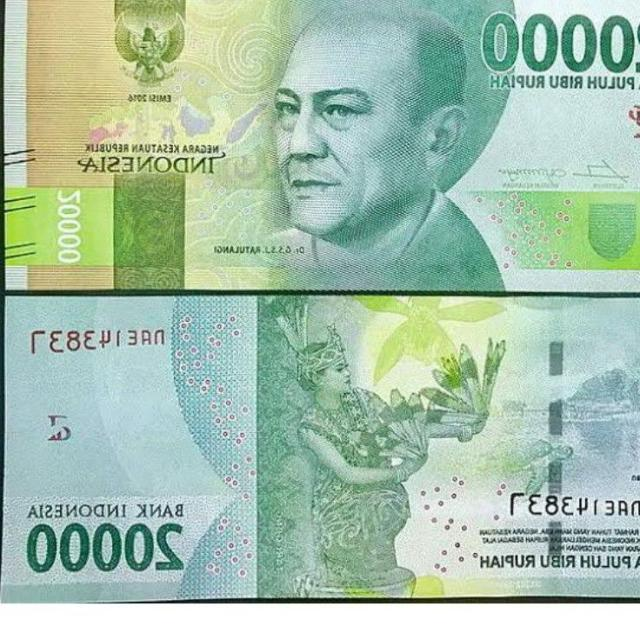dua puluh ribu rupiah: (0, 299, 639, 596), (7, 0, 640, 293)
